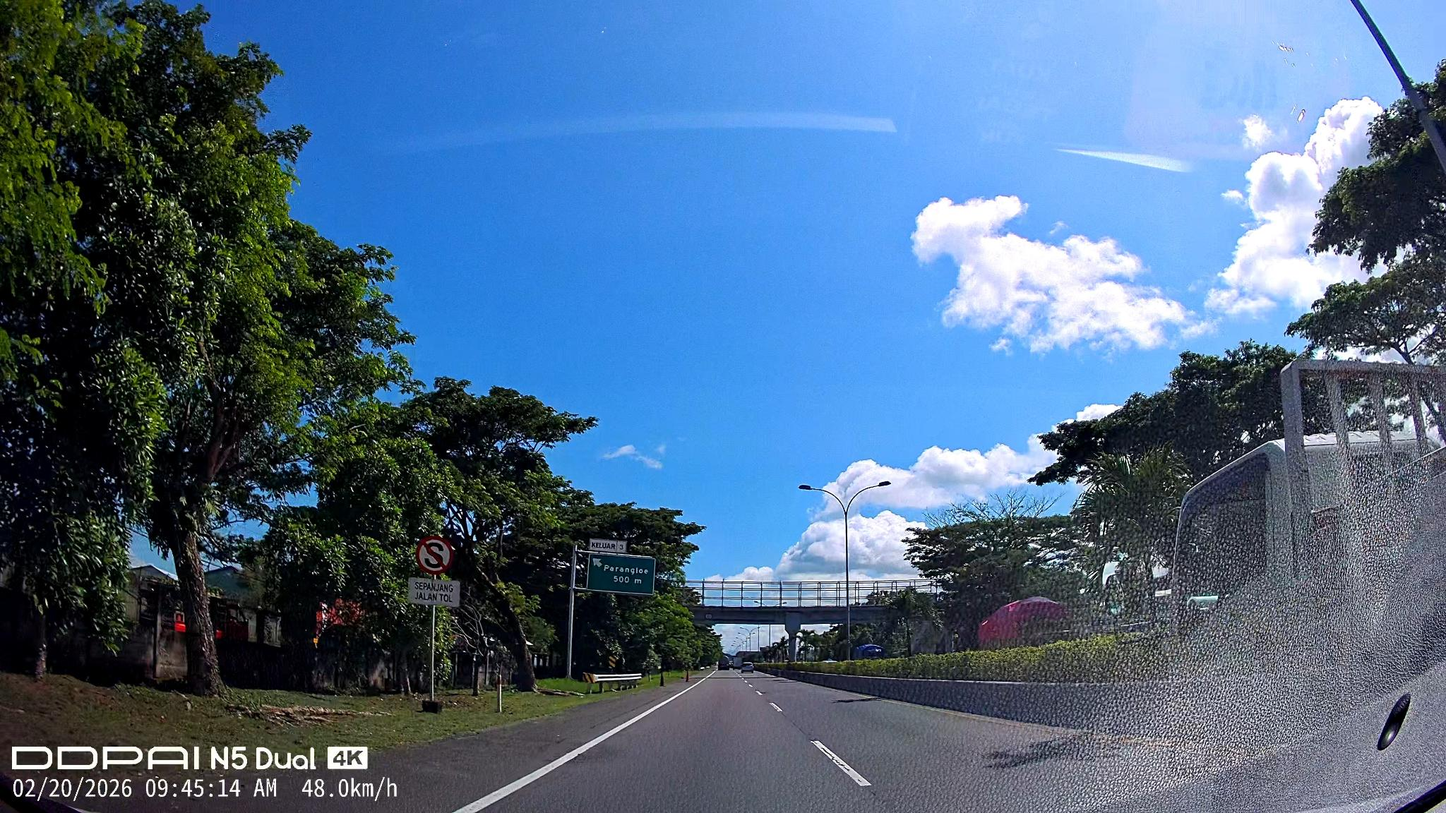rambu_teks: (585, 552, 656, 596)
